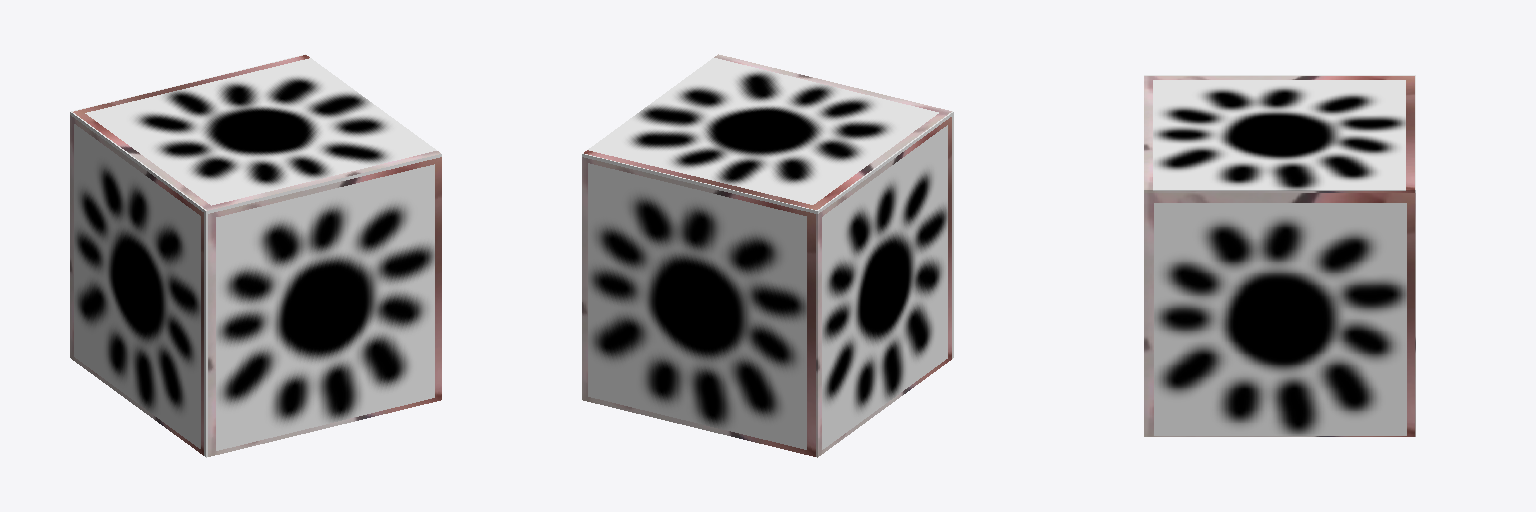
The picture shows the model from 3 angles: view 1: azimuth 30°, elevation 25°; view 2: azimuth 150°, elevation 25°; view 3: azimuth 270°, elevation 25°; orthographic projection.
Visible parts, largest first — view 1: Cube; view 2: Cube; view 3: Cube.
Boxes of the visible parts, x1,y1,x2,y2 form: Cube: [70, 54, 441, 457]; Cube: [582, 54, 953, 457]; Cube: [1144, 75, 1415, 436].
Bounding box in the file's own units: 2 × 2 × 2.
1 materials, 1 textured.